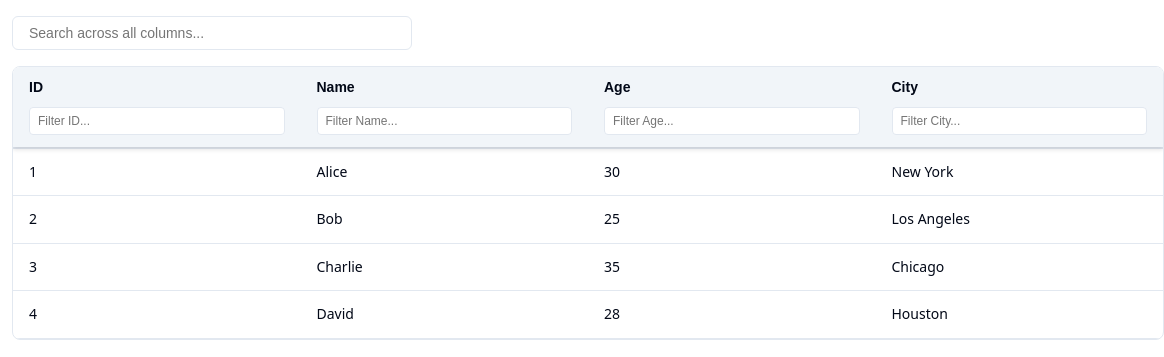
Test: InteractiveTable › Column Filtering › should filter by column value
Type "Bob" into the field with placeholder "Filter Name..." at point(444, 121), box [316, 107, 572, 135]
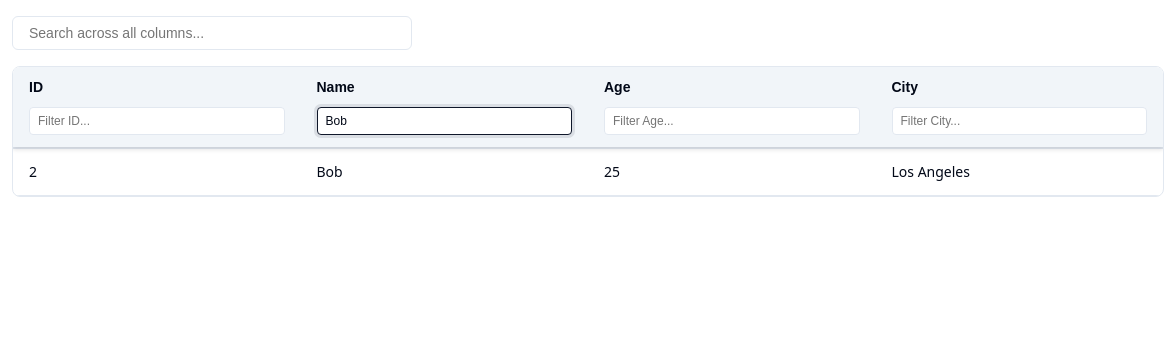
expect the text "Bob" is shown: met, box [300, 148, 588, 196]
expect the text "Alice" is gone: met
expect the text "Charlie" is gone: met
